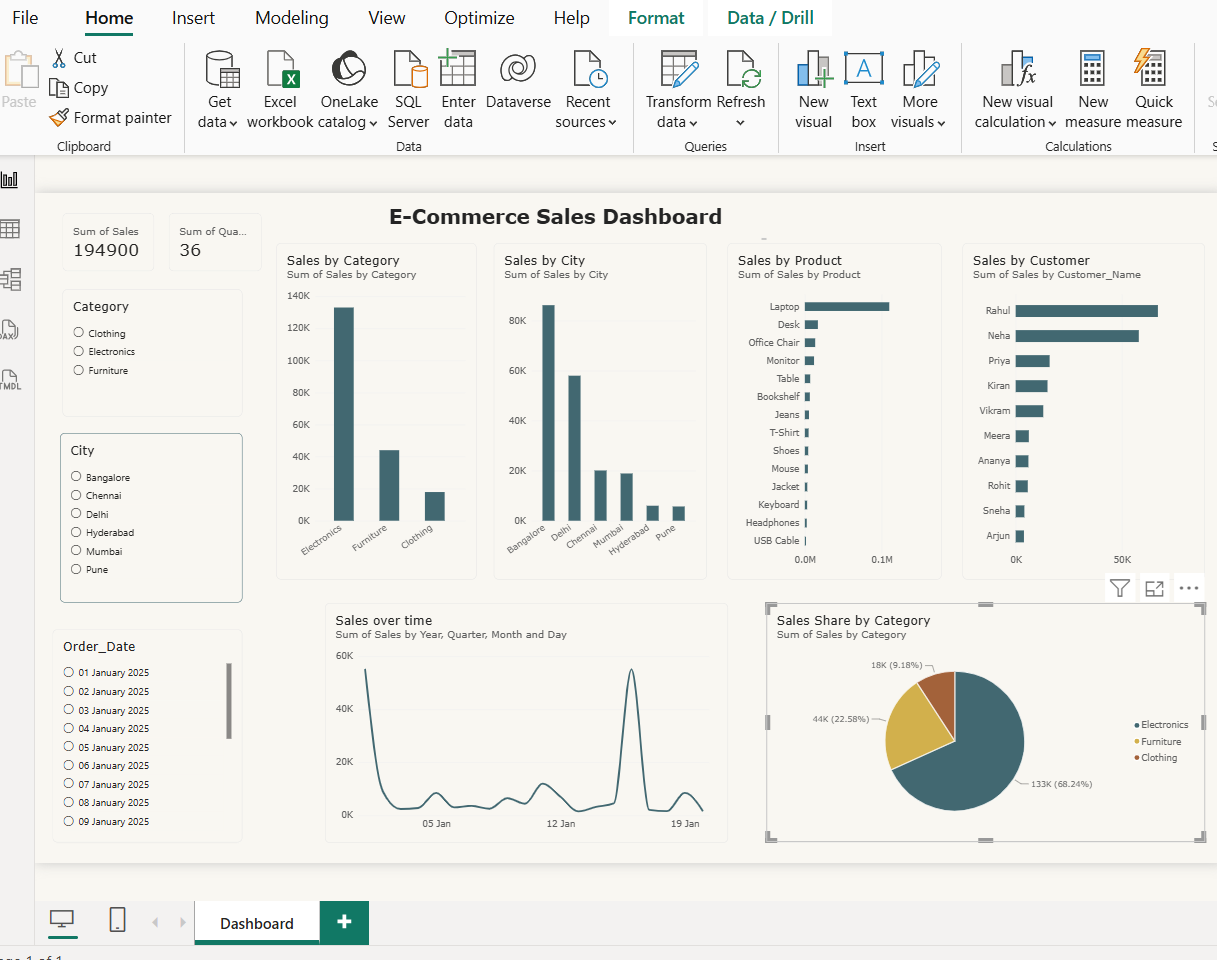

The page's visual inventory and layout, read from the dashboard file:
{"tool":"powerbi","page":{"name":"Dashboard","canvas":[1920,1080],"ordinal":0},"visuals":[{"type":"cardVisual","fields":{"Data":["Sum(EcommerceSales.Sales)"]},"box":[45.3,32.9,148.2,94.7],"z":0},{"type":"cardVisual","fields":{"Data":["Sum(EcommerceSales.Quantity)"]},"box":[216.1,32.9,150.3,94.7],"z":1000},{"type":"columnChart","title":"Sales by Category","fields":{"Category":["EcommerceSales.Category"],"Y":["Sum(EcommerceSales.Sales)"]},"box":[389,80.3,323.2,543.4],"z":2000},{"type":"clusteredColumnChart","title":"Sales by City","fields":{"Category":["EcommerceSales.City"],"Y":["Sum(EcommerceSales.Sales)"]},"box":[741,80.3,343.7,543.4],"z":3000},{"type":"clusteredBarChart","title":"Sales by Product","fields":{"Category":["EcommerceSales.Product"],"Y":["Sum(EcommerceSales.Sales)"]},"box":[1117.7,80.3,345.8,543.4],"z":4000},{"type":"clusteredBarChart","title":"Sales by Customer","fields":{"Category":["EcommerceSales.Customer_Name"],"Y":["Sum(EcommerceSales.Sales)"]},"box":[1496.4,80.3,391.1,543.4],"z":5000},{"type":"lineChart","title":"Sales over time","fields":{"Y":["Sum(EcommerceSales.Sales)"],"Category":["EcommerceSales.Order_Date.Variation.Date Hierarchy.Year","EcommerceSales.Order_Date.Variation.Date Hierarchy.Quarter","EcommerceSales.Order_Date.Variation.Date Hierarchy.Month","EcommerceSales.Order_Date.Variation.Date Hierarchy.Day"]},"box":[467.2,660.7,650.4,387],"z":6000},{"type":"pieChart","title":"Sales Share by Category","fields":{"Category":["EcommerceSales.Category"],"Y":["Sum(EcommerceSales.Sales)"]},"box":[1179.4,660.7,708.1,387],"z":7000},{"type":"listSlicer","fields":{"Values":["EcommerceSales.Category"]},"box":[45.3,154.4,290.2,205.8],"z":8000},{"type":"listSlicer","fields":{"Values":["EcommerceSales.City"]},"box":[41.2,387,294.3,273.8],"z":9000},{"type":"listSlicer","fields":{"Values":["EcommerceSales.Order_Date"]},"box":[28.8,703.9,306.7,343.7],"z":10000},{"type":"textbox","title":"E-Commerce Sales Dashboard","box":[570.2,18.5,609.3,57.6],"z":11000}]}

Visuals, with their boxes on the page's 1920x1080 design canvas (x1, y1, x2, y2). These are canvas units, not pixel positions in the 1217x960 screenshot, which may show the page scaled, cropped or inside an application window:
cardVisual - Sum(EcommerceSales.Sales): 45/33/194/128
cardVisual - Sum(EcommerceSales.Quantity): 216/33/366/128
"Sales by Category" columnChart: 389/80/712/624
"Sales by City" clusteredColumnChart: 741/80/1085/624
"Sales by Product" clusteredBarChart: 1118/80/1464/624
"Sales by Customer" clusteredBarChart: 1496/80/1888/624
"Sales over time" lineChart: 467/661/1118/1048
"Sales Share by Category" pieChart: 1179/661/1888/1048
listSlicer - EcommerceSales.Category: 45/154/336/360
listSlicer - EcommerceSales.City: 41/387/336/661
listSlicer - EcommerceSales.Order_Date: 29/704/336/1048
"E-Commerce Sales Dashboard" textbox: 570/18/1180/76
